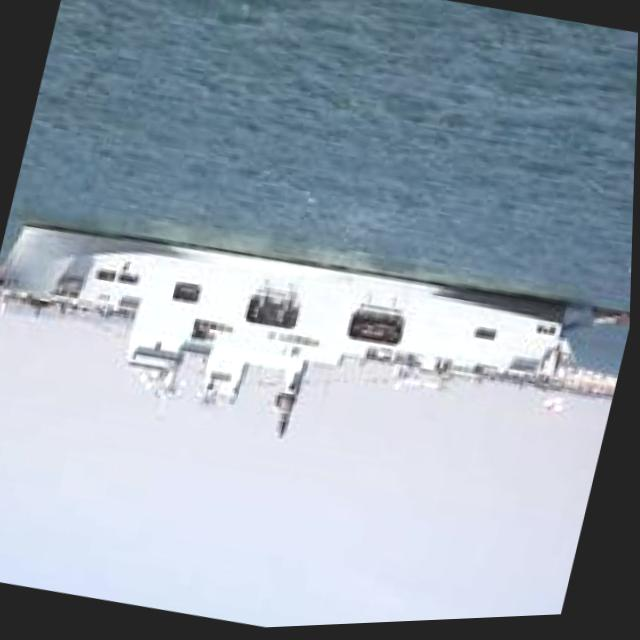ship2: (0, 221, 569, 442)
